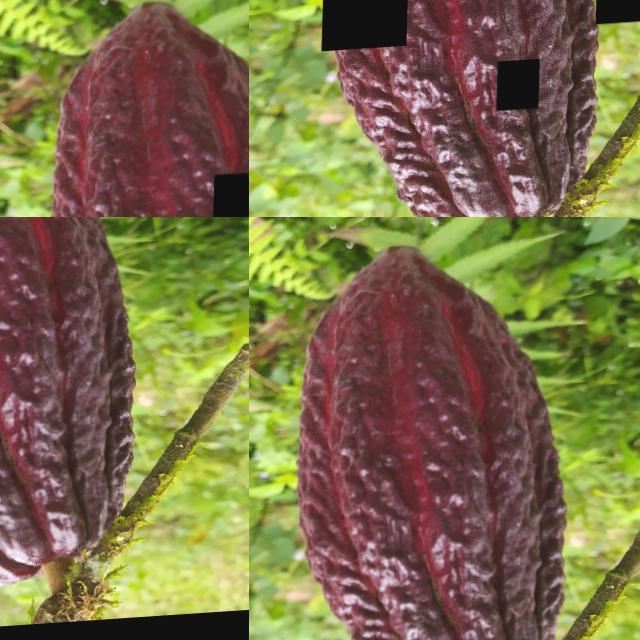Fitoftora: (499, 65, 542, 116), (598, 0, 640, 30)
Sana: (288, 242, 580, 640), (10, 0, 249, 217), (0, 217, 130, 568), (323, 0, 411, 54)
